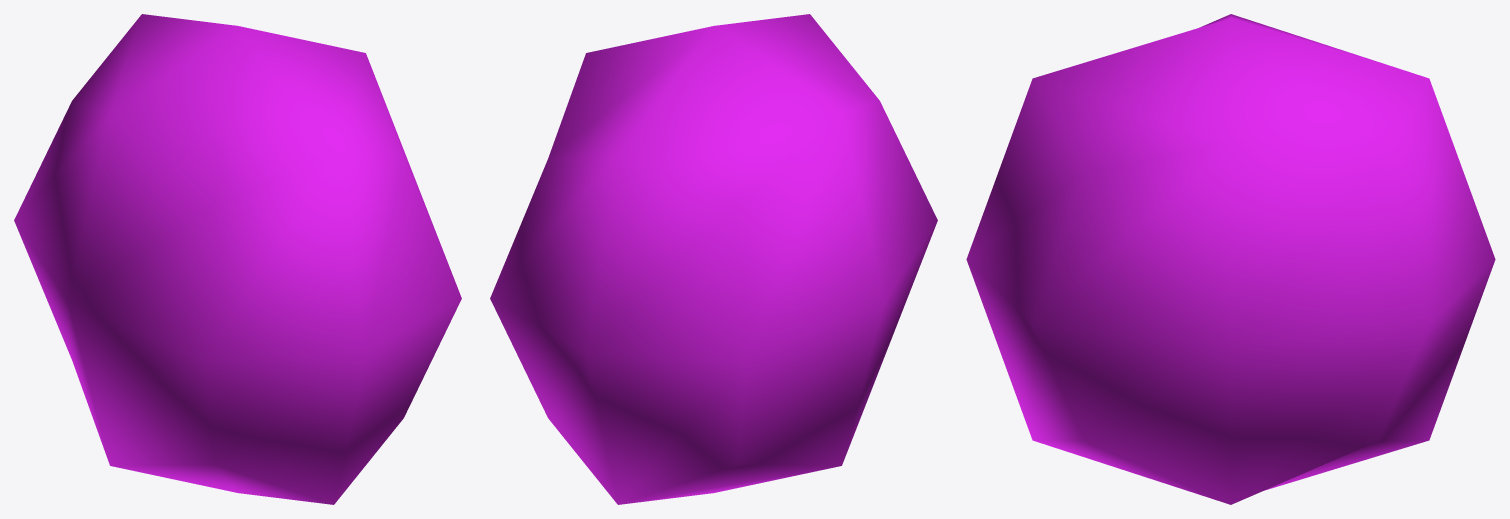
File: ringo_1.fbx
3 renders of one model, left to right at view 1: azimuth 30°, elevation 25°; view 2: azimuth 150°, elevation 25°; view 3: azimuth 270°, elevation 25°, orthographic. The views are drawn at different scales.
Visible parts, largest first — view 1: Box001; view 2: Box001; view 3: Box001.
Part boxes in pixels (x1,y1,x2,y2): Box001: [14, 14, 461, 504]; Box001: [490, 14, 937, 504]; Box001: [966, 14, 1495, 504].
Size of the model in its own units: 34.22 by 44.49 by 44.78.
1 material, 1 textured.
